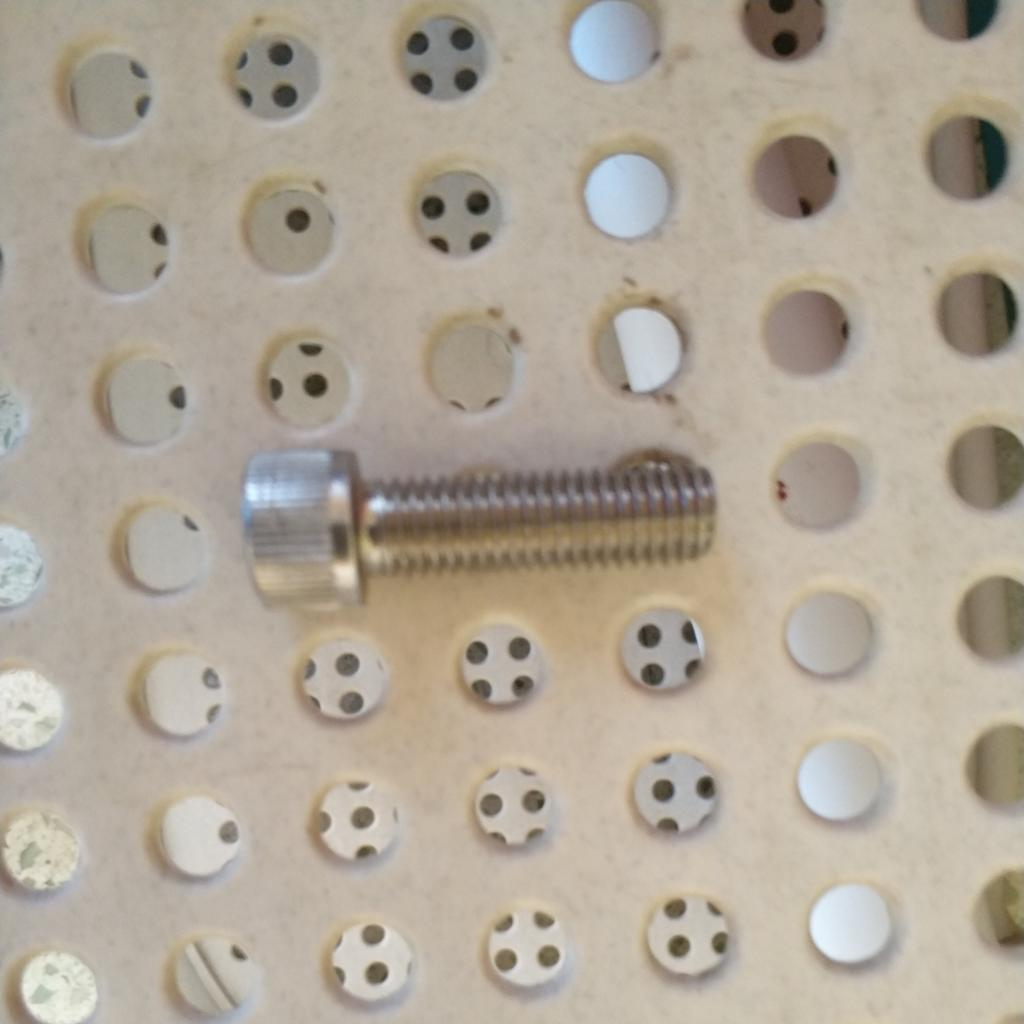screwtype1silver: (228, 435, 718, 612)
